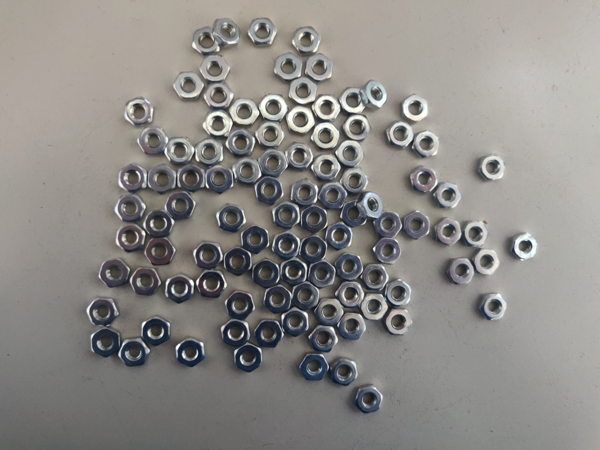nut: (123, 97, 155, 127), (163, 190, 195, 220), (232, 343, 263, 373), (328, 357, 359, 387), (99, 259, 131, 288), (87, 297, 119, 326), (90, 329, 122, 358), (140, 317, 172, 346), (174, 338, 206, 367), (115, 192, 147, 221), (115, 224, 147, 253), (340, 199, 370, 229), (119, 337, 150, 366), (299, 353, 330, 382), (130, 267, 161, 296), (291, 25, 322, 54), (204, 81, 235, 110), (288, 75, 319, 104), (217, 203, 248, 232), (138, 127, 169, 156), (310, 121, 341, 150), (164, 274, 195, 303), (308, 325, 339, 354), (259, 93, 289, 122), (204, 109, 234, 138), (248, 18, 278, 47), (165, 137, 195, 166), (509, 232, 538, 262), (145, 209, 174, 239), (255, 320, 285, 349), (229, 98, 260, 126), (200, 54, 231, 82), (258, 148, 289, 176), (255, 176, 286, 204), (193, 242, 224, 270), (225, 292, 256, 320), (222, 318, 253, 346), (263, 284, 294, 312), (148, 164, 176, 195), (226, 130, 257, 158), (174, 72, 204, 100), (205, 165, 235, 193), (117, 165, 147, 193), (196, 270, 226, 298), (372, 236, 402, 264), (361, 81, 389, 111), (353, 386, 384, 413), (300, 205, 329, 233), (343, 114, 372, 142), (402, 210, 430, 239), (336, 140, 365, 168), (265, 285, 293, 314), (285, 143, 314, 171), (241, 225, 271, 252), (334, 253, 364, 280), (324, 223, 354, 250), (315, 298, 345, 325), (272, 232, 302, 259), (272, 202, 302, 229), (311, 154, 341, 181), (146, 239, 176, 266), (410, 165, 438, 193), (287, 106, 315, 134), (213, 18, 241, 46), (403, 94, 430, 123), (291, 178, 320, 205), (387, 120, 414, 149), (385, 308, 414, 335), (306, 54, 335, 81), (196, 138, 225, 165), (413, 131, 441, 158), (342, 167, 369, 195), (253, 260, 281, 287), (357, 193, 384, 221), (309, 261, 335, 290), (283, 309, 309, 338), (233, 158, 262, 184), (448, 258, 475, 285), (339, 314, 366, 341), (281, 260, 308, 287), (340, 87, 368, 113), (478, 155, 506, 181), (434, 182, 462, 208), (480, 295, 508, 321), (192, 27, 220, 53), (294, 282, 320, 310), (436, 218, 462, 245), (363, 294, 389, 321), (257, 122, 284, 148), (274, 55, 302, 80), (387, 279, 412, 307), (337, 282, 365, 307), (226, 248, 251, 276), (320, 184, 348, 209), (314, 97, 342, 121), (464, 222, 489, 248), (302, 236, 328, 261), (178, 167, 203, 193), (377, 211, 401, 238), (475, 250, 499, 275), (364, 266, 388, 291)
